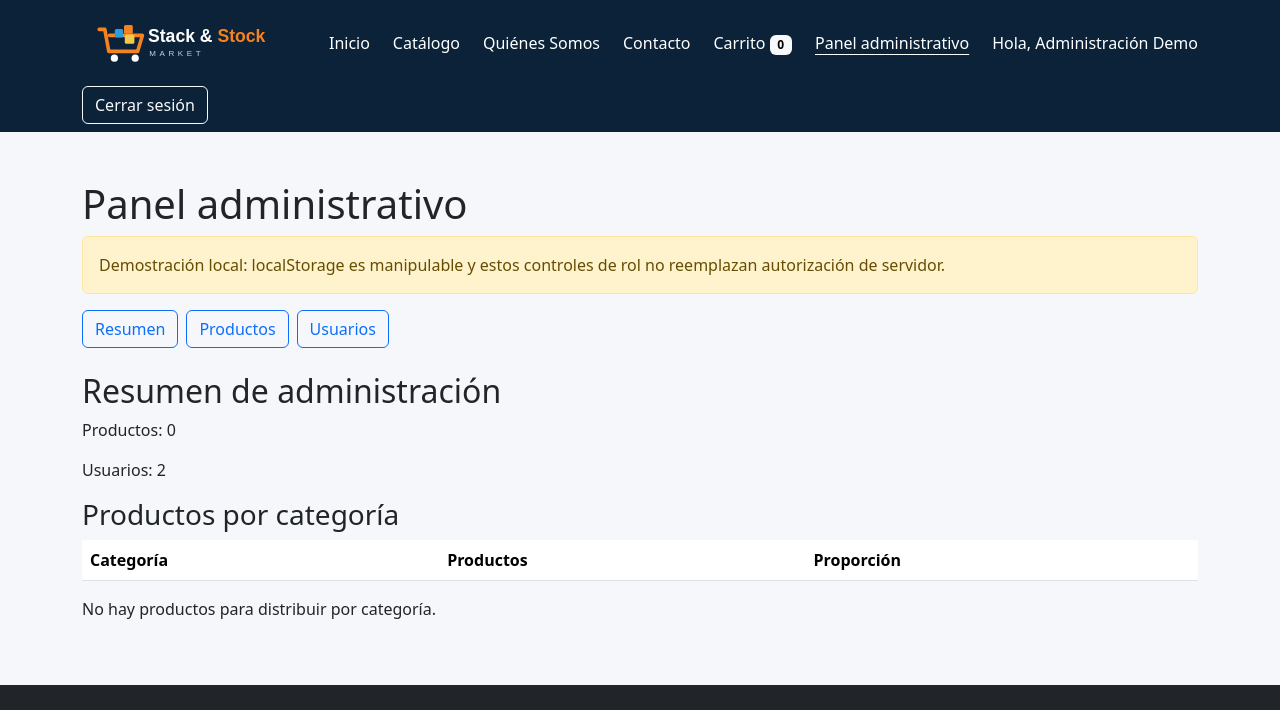
Scenario: Administración integrada › presenta resumen vacío sin porcentajes inventados ni reposición de productos eliminados
The image size is (1280, 710).
Check: the text "Productos: 0" is shown, box [82,419,176,441]
Check: the text "Usuarios: 2" is shown, box [82,459,166,481]
What coordinates should you click on to do the following:
click the button "Productos"
I would click on:
 (238, 329)
Its box is [186,310,289,348].
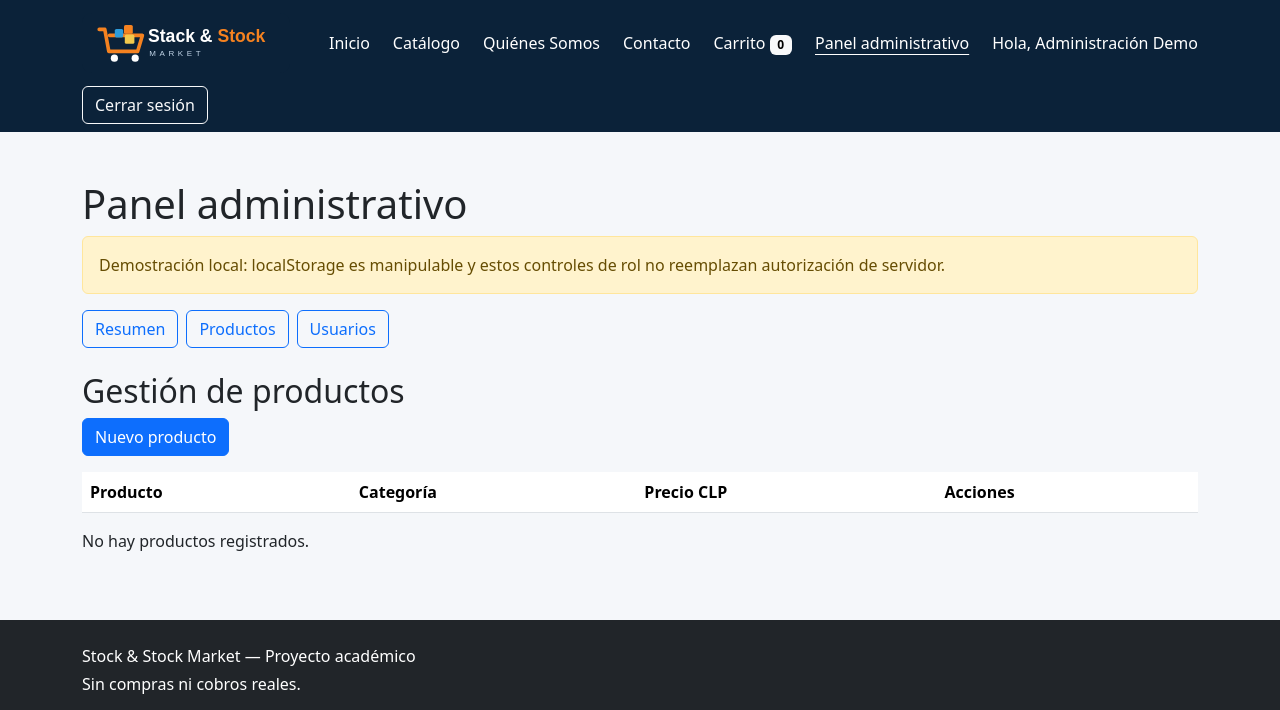
Check: the text "No hay productos registrados." is shown, box [82,530,309,552]
